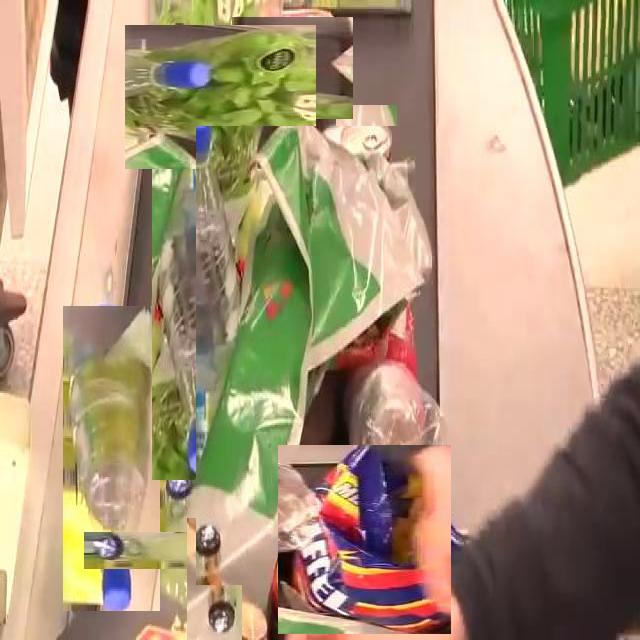beverage: (151, 100, 247, 480), (62, 306, 160, 612), (120, 496, 229, 604), (186, 517, 242, 640)
food-box: (274, 449, 455, 630), (236, 12, 348, 124), (351, 363, 429, 497), (336, 104, 398, 243)
utility-box: (196, 126, 414, 585), (136, 13, 304, 181)
